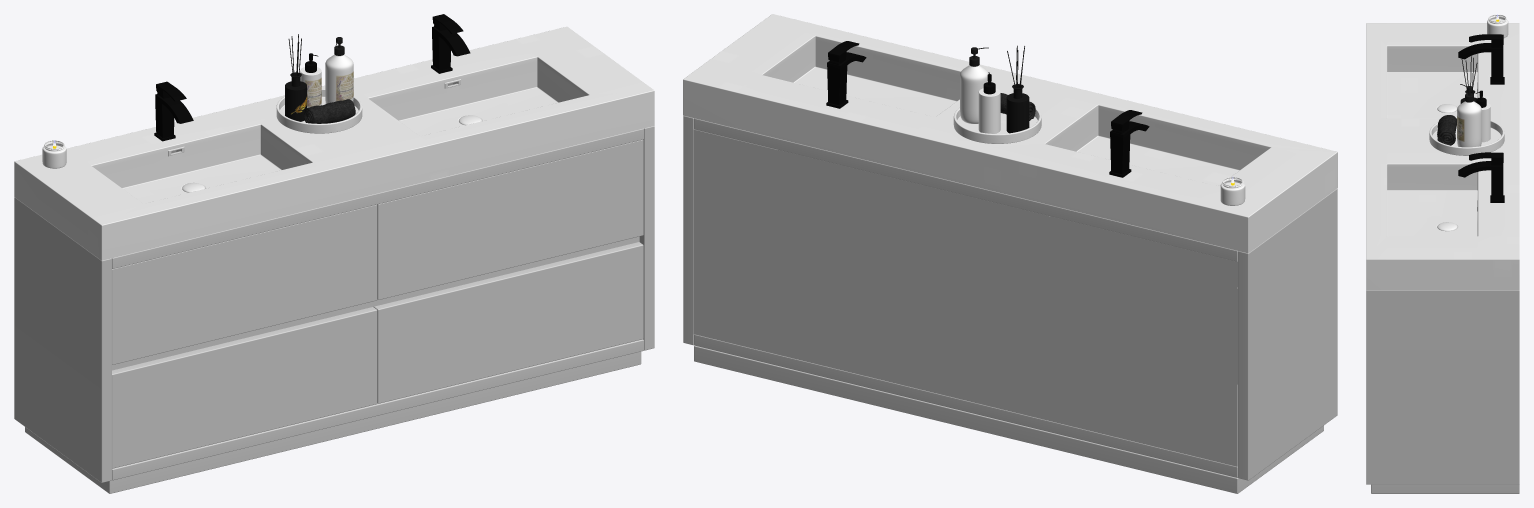
Rendered from bath_kit4.glb.
3 renders of one model, left to right at view 1: azimuth 30°, elevation 25°; view 2: azimuth 150°, elevation 25°; view 3: azimuth 270°, elevation 25°, orthographic. The views are drawn at different scales.
Parts seen in each view (by area): view 1: Cube.002, Cube.008, FAUCET, Soap Dispense 2, Circle.002, AROMA, Towel.001, soap dispenser; view 2: Cube.002, Cube.008, FAUCET, Circle.002, Soap Dispense 2, AROMA, soap dispenser; view 3: Cube.008, Cube.002, FAUCET, Soap Dispense 2, Circle.002, Towel.001, soap dispenser, candel, Icosphere, AROMA.
Part boxes in pixels (x1=…): Cube.002: x1=14, y1=126, x2=654, y2=493; Cube.008: x1=14, y1=26, x2=654, y2=260; FAUCET: x1=154, y1=14, x2=470, y2=141; Soap Dispense 2: x1=325, y1=37, x2=353, y2=103; Circle.002: x1=276, y1=88, x2=362, y2=133; AROMA: x1=285, y1=34, x2=307, y2=121; Towel.001: x1=304, y1=99, x2=355, y2=123; soap dispenser: x1=300, y1=53, x2=321, y2=107; Cube.002: x1=683, y1=115, x2=1337, y2=493; Cube.008: x1=683, y1=14, x2=1337, y2=253; FAUCET: x1=826, y1=41, x2=1149, y2=177; Circle.002: x1=953, y1=107, x2=1041, y2=143; Soap Dispense 2: x1=960, y1=47, x2=988, y2=123; AROMA: x1=1006, y1=45, x2=1029, y2=133; soap dispenser: x1=978, y1=72, x2=1000, y2=133; Cube.008: x1=1366, y1=23, x2=1519, y2=290; Cube.002: x1=1366, y1=290, x2=1519, y2=493; FAUCET: x1=1458, y1=34, x2=1504, y2=202; Soap Dispense 2: x1=1457, y1=84, x2=1481, y2=147; Circle.002: x1=1429, y1=117, x2=1504, y2=155; Towel.001: x1=1437, y1=115, x2=1456, y2=145; soap dispenser: x1=1475, y1=90, x2=1490, y2=142; candel: x1=1487, y1=14, x2=1508, y2=37; Icosphere: x1=1437, y1=104, x2=1457, y2=231; AROMA: x1=1460, y1=56, x2=1477, y2=103.
Size of the model in its own units: 1.82 by 1.12 by 0.5.
19 materials, 9 textured.
